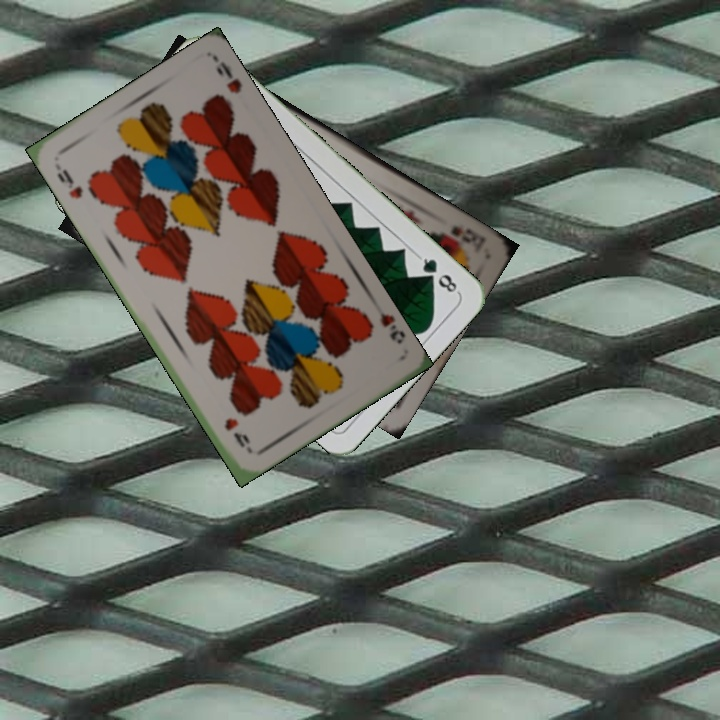G8: (414, 252, 462, 296)
H9: (53, 165, 85, 202), (376, 309, 407, 347)
SK: (447, 221, 487, 255)
